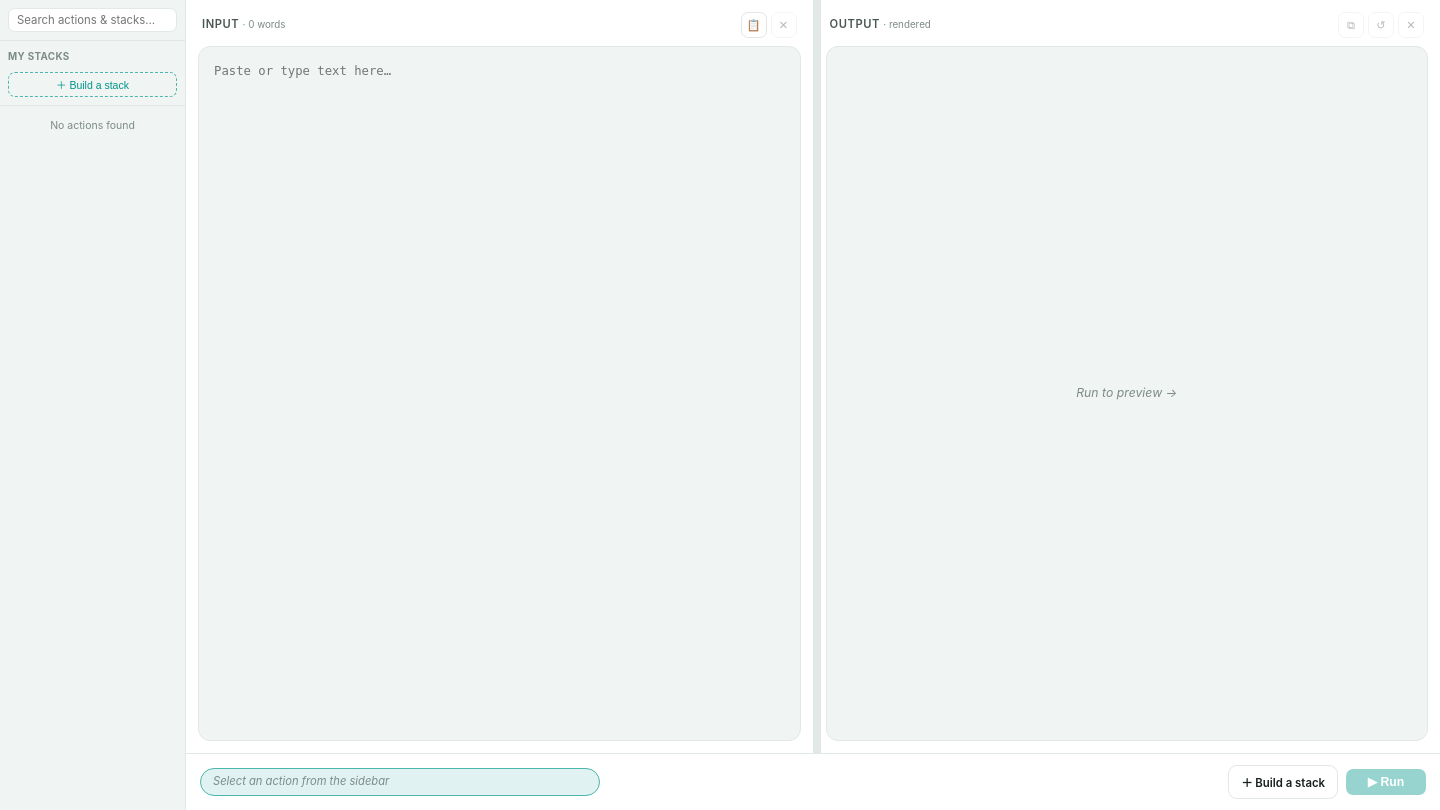
EditorView integration › Clear input button is enabled after typing into the textarea
This screenshot has width=1440, height=810.
Step 1. Type "hello" into the text box named "input text" → (499, 394), box [212,60,786,727]
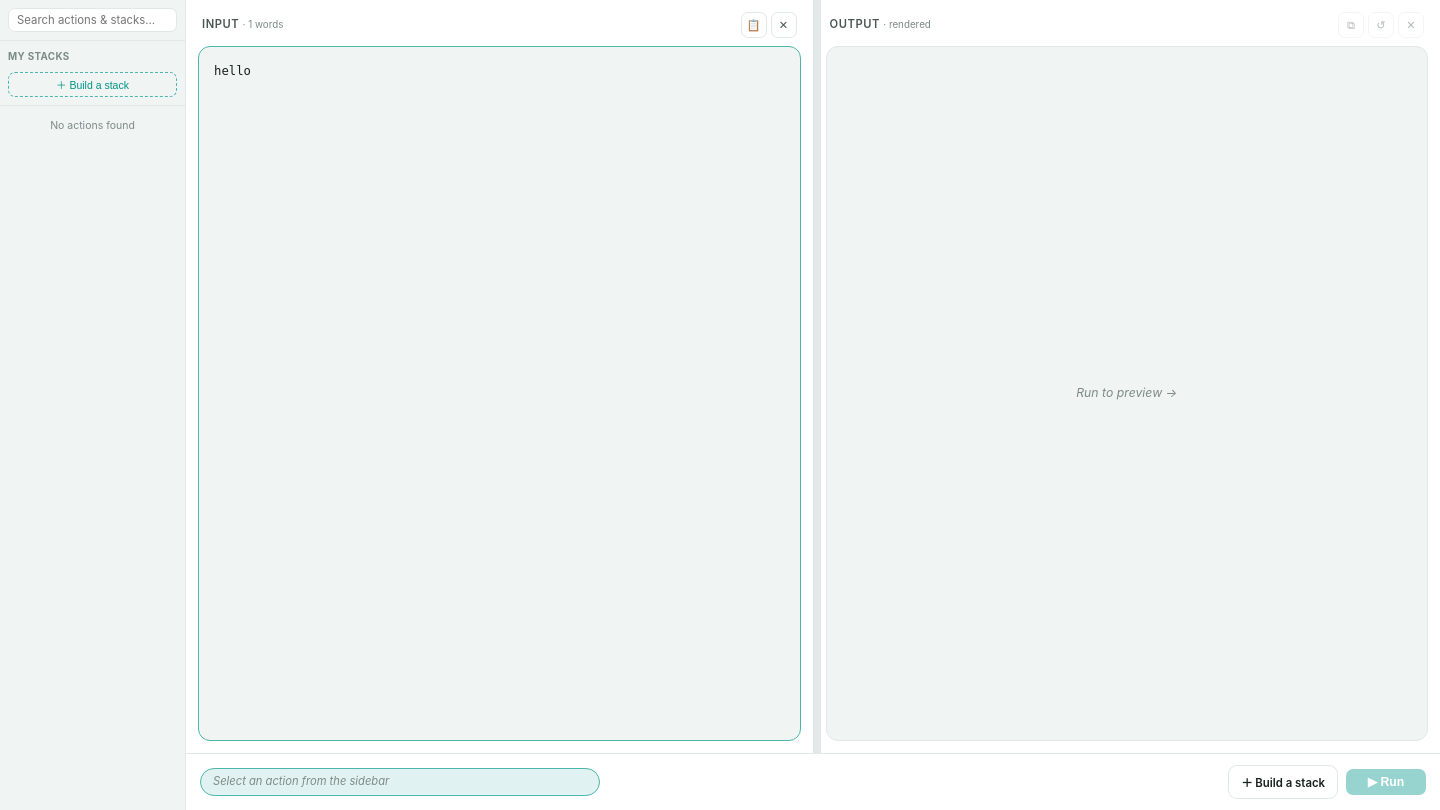
Result: the button named "clear input" is enabled at [770,12,796,38]
